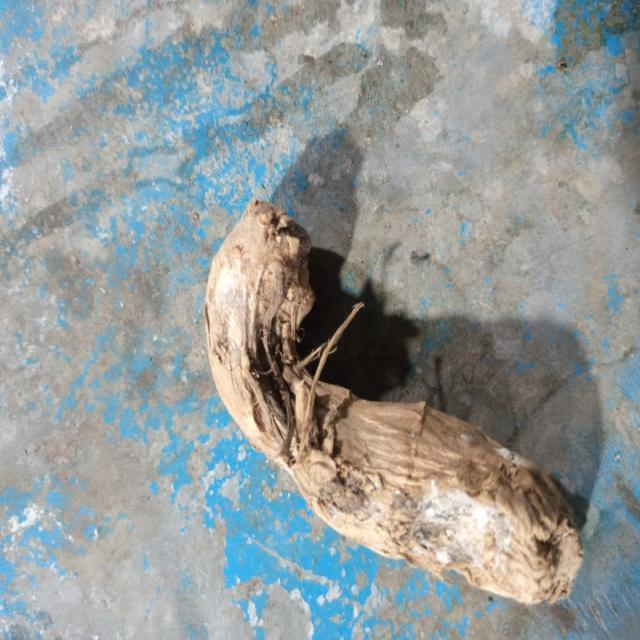ginger: (204, 204, 587, 610)
